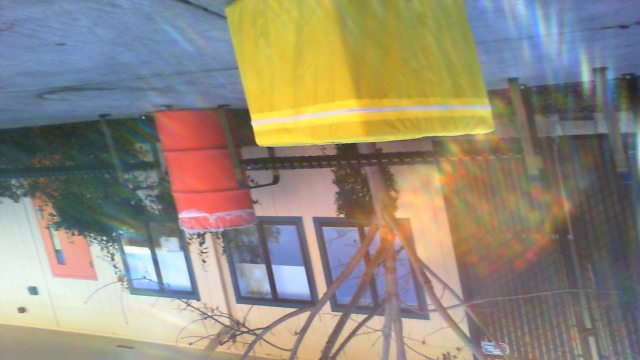cube: (222, 1, 500, 162)
